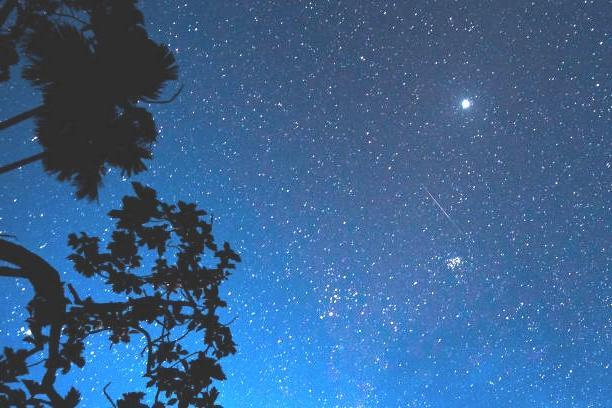meteorite: (412, 178, 472, 240)
